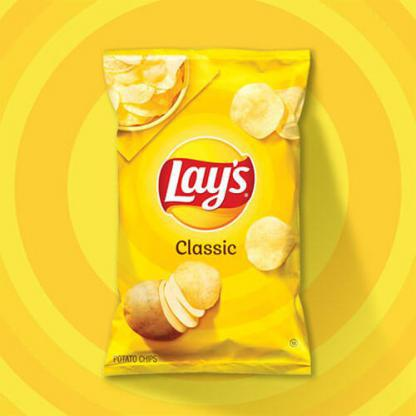classicsalted: (101, 45, 312, 375)
